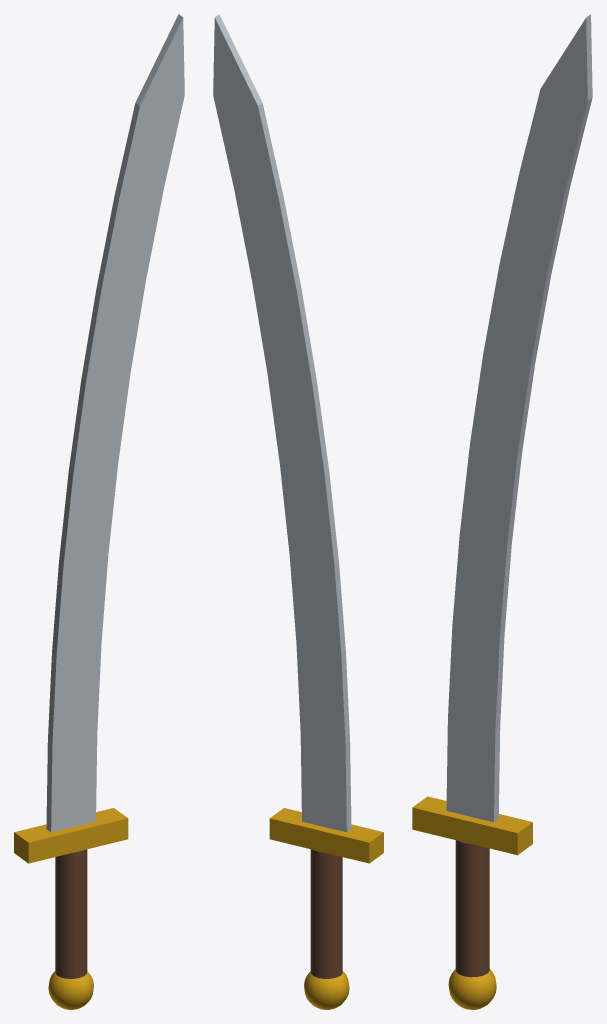
Rendered from saber.glb.
3 views of the same model, side by side, from view 1: azimuth 30°, elevation 25°; view 2: azimuth 150°, elevation 25°; view 3: azimuth 330°, elevation 25° (orthographic). The views are drawn at different scales.
Parts seen in each view (by area): view 1: plate, cyl, box, sph; view 2: plate, cyl, box, sph; view 3: plate, cyl, box, sph.
Boxes of the visible parts, x1,y1,x2,y2 form: plate: (46,14,184,832); cyl: (55,849,87,978); box: (14,808,128,863); sph: (48,971,93,1009); plate: (213,14,351,832); cyl: (310,849,342,978); box: (269,808,383,863); sph: (304,971,349,1009); plate: (446,14,592,822); cyl: (455,840,489,977); box: (412,796,532,855); sph: (448,969,496,1009).
Bounding box in the file's own units: 0.1616 × 0.925 × 0.04.
